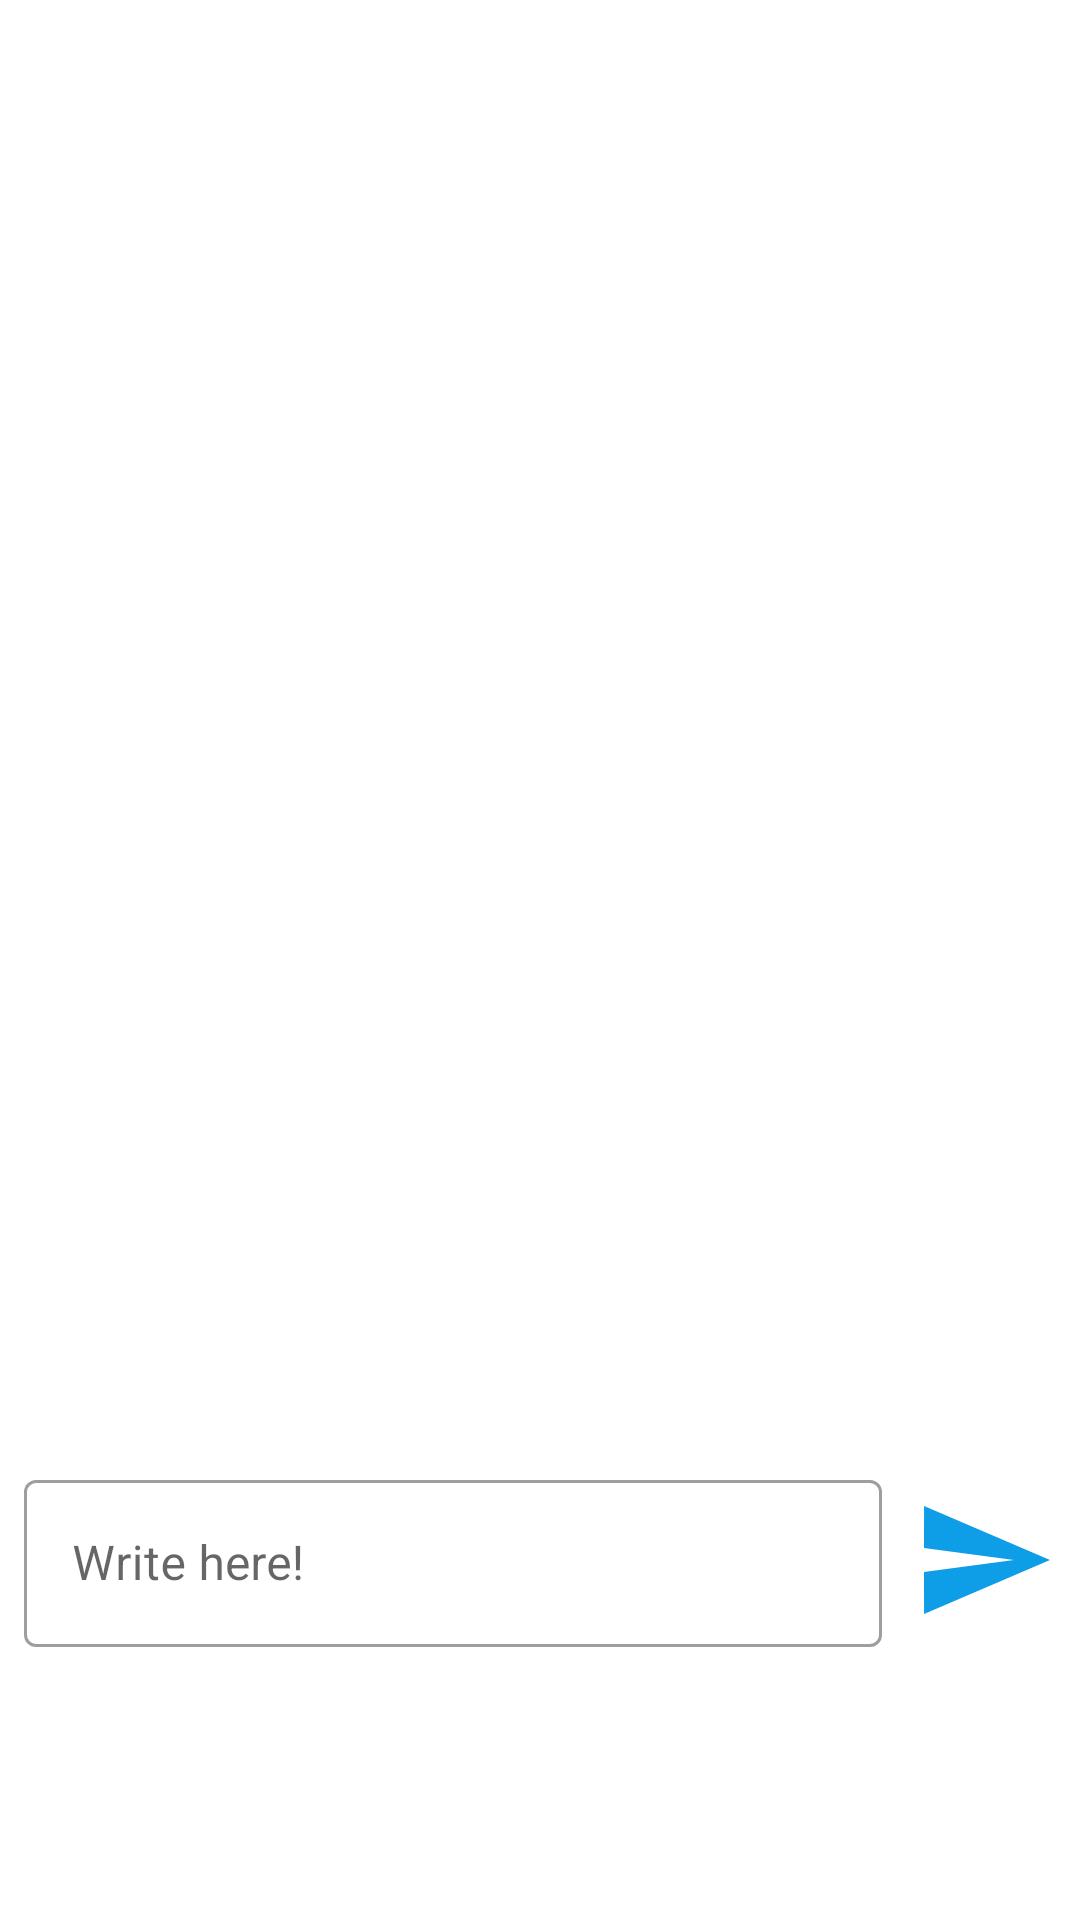

Icon bounding boxes for this 1080*1920 phone screenshot, format (x1, y1, x2, y2):
send: (924, 1506, 1050, 1614)
